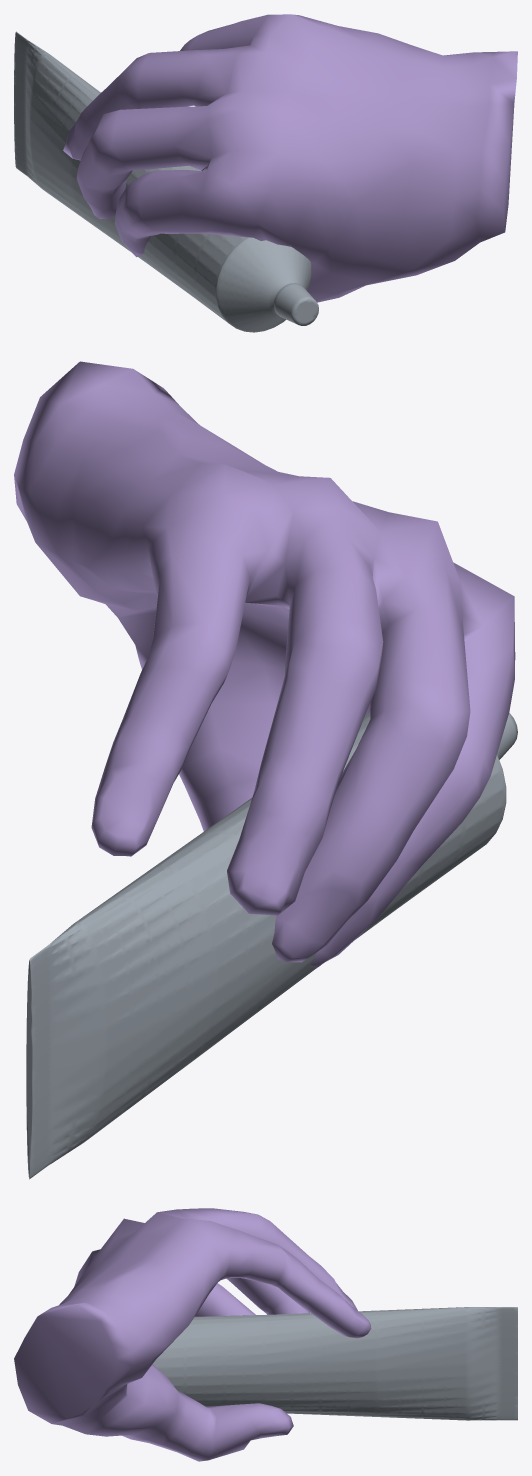
File: select_grasp.glb
3 renders of one model, top to bottom at view 1: azimuth 30°, elevation 25°; view 2: azimuth 150°, elevation 25°; view 3: azimuth 270°, elevation 25°, orthographic. The views are drawn at different scales.
Bounding box in the file's own units: 0.1397 × 0.1148 × 0.2125.
